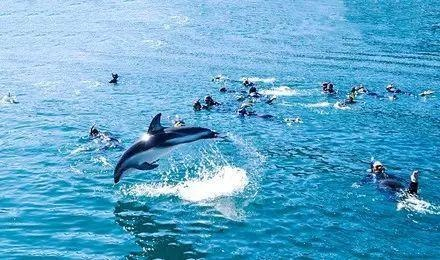fish: (109, 112, 222, 182)
